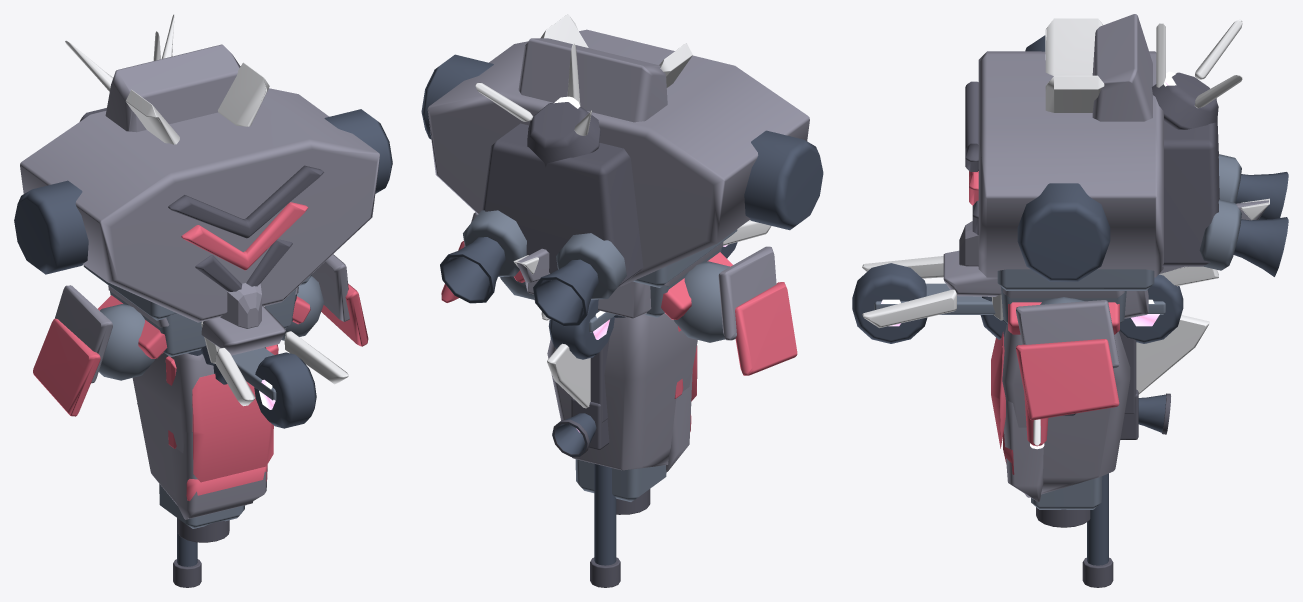
The model's file is stinger.glb.
The picture shows the model from 3 angles, left to right: view 1: azimuth 30°, elevation 25°; view 2: azimuth 150°, elevation 25°; view 3: azimuth 270°, elevation 25°; orthographic projection. The views are drawn at different scales.
Parts seen in each view (by area): view 1: chest/chest/P, chest/chest/D, kneeL/shins/S, kneeL/shins/P, hips/hips/K, hips/hips/S, chest/chest/F, hips/hips/P, ankleL/feet/D, chest/chest/T, hipL/thighs/P, chest/chest/S (+12 smaller); view 2: chest/chest/P, chest/backpack/F, kneeL/shins/P, chest/chest/D, chest/backpack/D, chest/backpack/K, hips/hips/S, hips/hips/P, hips/hips/K, wrR/armR/D, hipL/thighs/K, ankleL/feet/D (+12 smaller); view 3: chest/chest/P, chest/backpack/F, kneeL/shins/P, chest/chest/D, hips/hips/S, ankleL/feet/D, chest/chest/T, hips/hips/P, chest/backpack/D, ankleL/feet/T, chest/backpack/K, kneeL/shins/T (+17 smaller).
Part boxes in pixels (x1,y1,x2,y2): chest/chest/P: (20, 44, 379, 322); chest/chest/D: (14, 109, 392, 274); kneeL/shins/S: (192, 374, 273, 482); kneeL/shins/P: (132, 347, 266, 518); hips/hips/K: (99, 276, 324, 380); hips/hips/S: (33, 283, 368, 416); chest/chest/F: (168, 165, 323, 291); hips/hips/P: (55, 254, 349, 383); ankleL/feet/D: (213, 352, 316, 428); chest/chest/T: (125, 62, 269, 144); hipL/thighs/P: (171, 432, 267, 519); chest/chest/S: (181, 202, 308, 270); chest/chest/P: (427, 29, 809, 286); chest/backpack/F: (482, 102, 643, 286); kneeL/shins/P: (547, 313, 697, 470); chest/chest/D: (421, 54, 823, 230); chest/backpack/D: (440, 237, 598, 326); chest/backpack/K: (463, 210, 626, 299); hips/hips/S: (441, 241, 797, 375); hips/hips/P: (464, 212, 776, 340); hips/hips/K: (500, 248, 729, 342); wrR/armR/D: (594, 463, 616, 565); hipL/thighs/K: (575, 459, 666, 501); ankleL/feet/D: (548, 242, 737, 359); chest/chest/P: (978, 14, 1163, 277); chest/backpack/F: (1152, 72, 1219, 266); kneeL/shins/P: (1002, 324, 1130, 497); chest/chest/D: (1017, 35, 1110, 281); hips/hips/S: (1016, 339, 1119, 420); ankleL/feet/D: (852, 263, 1183, 343); chest/chest/T: (1045, 18, 1104, 112); hips/hips/P: (1016, 290, 1148, 368); chest/backpack/D: (1233, 172, 1288, 276); ankleL/feet/T: (862, 256, 1218, 327); chest/backpack/K: (1199, 154, 1241, 270); kneeL/shins/T: (991, 294, 1209, 394).
Bounding box in the file's own units: 3.44 × 5.08 × 3.59.
